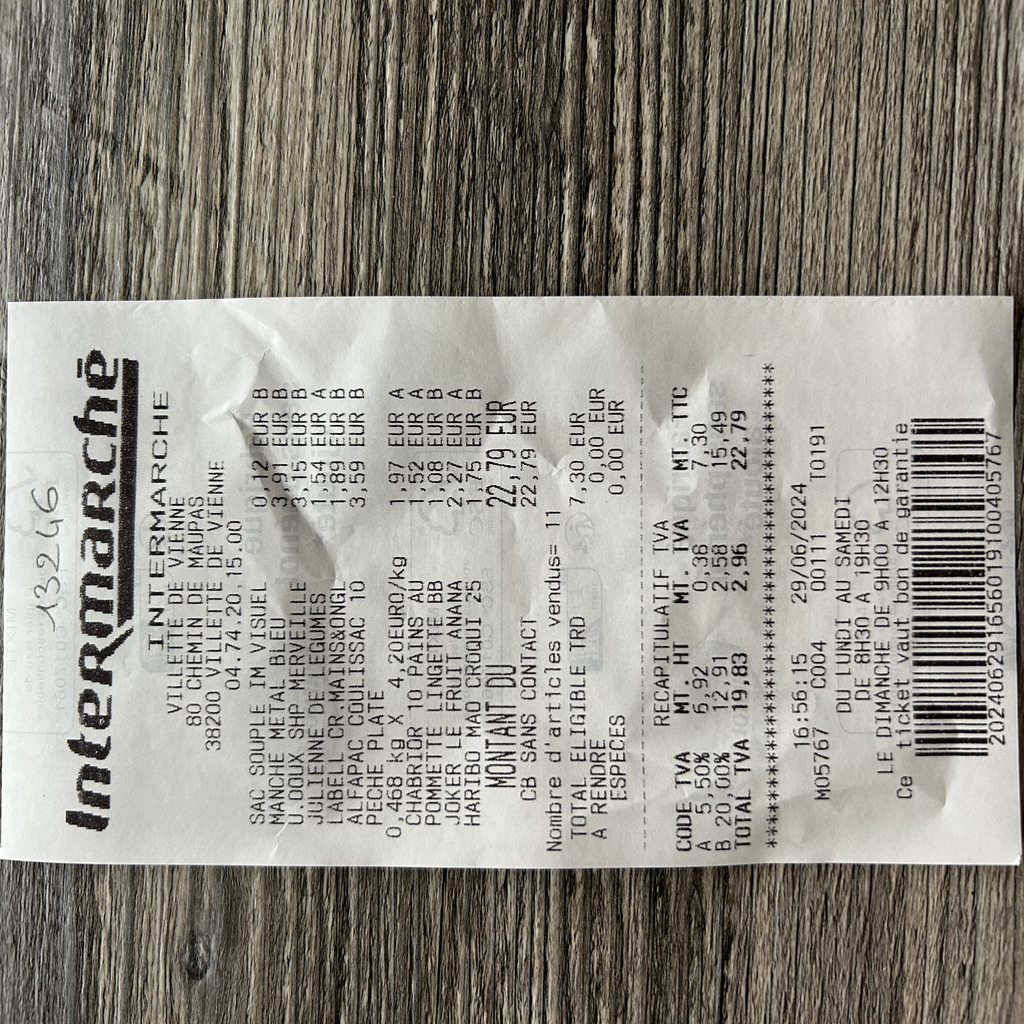recipt: (2, 296, 1018, 873)
